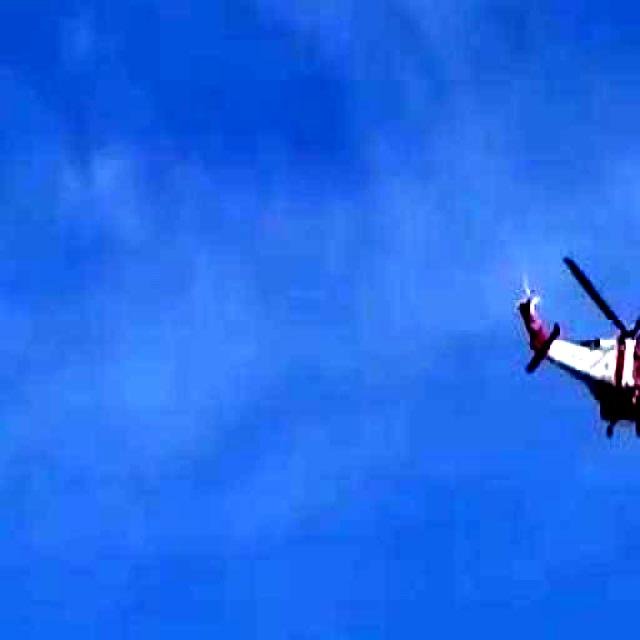drone: (462, 149, 640, 519)
